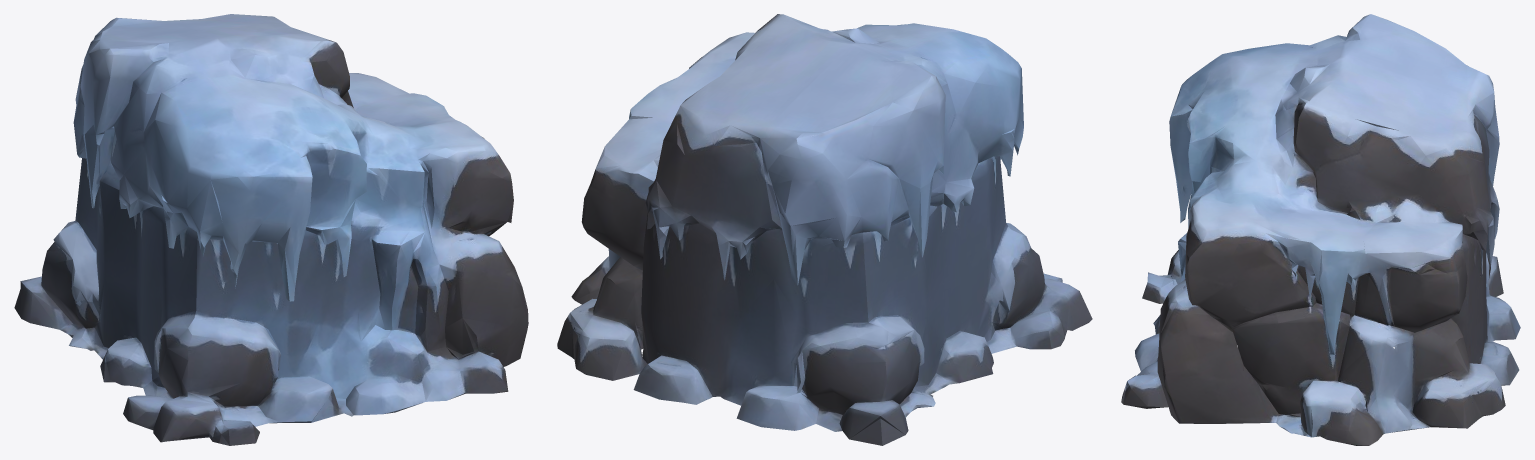
Rendered from ice_rock.glb.
3 views of the same model, side by side, from view 1: azimuth 30°, elevation 25°; view 2: azimuth 150°, elevation 25°; view 3: azimuth 270°, elevation 25° (orthographic). The views are drawn at different scales.
Parts seen in each view (by area): view 1: body; view 2: body; view 3: body.
Part boxes in pixels (box(x1,y1,x2,y2)): body: box(14, 14, 528, 445); body: box(557, 14, 1092, 445); body: box(1121, 14, 1520, 445).
Bounding box in the file's own units: 1.67 × 1.19 × 1.56.
Materials: 1 (1 with a texture image).
